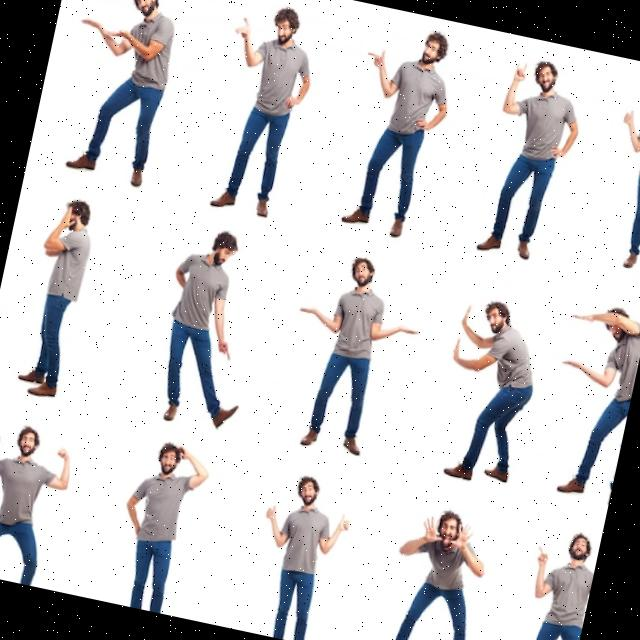Person: (273, 247, 431, 464), (330, 18, 462, 242), (198, 0, 324, 220), (146, 224, 274, 434), (49, 0, 184, 188), (472, 54, 590, 264), (428, 294, 549, 489), (535, 296, 640, 506), (241, 469, 356, 640), (106, 437, 214, 617), (13, 194, 100, 399), (375, 501, 503, 640), (0, 417, 76, 588), (508, 523, 601, 640), (593, 73, 640, 276)
